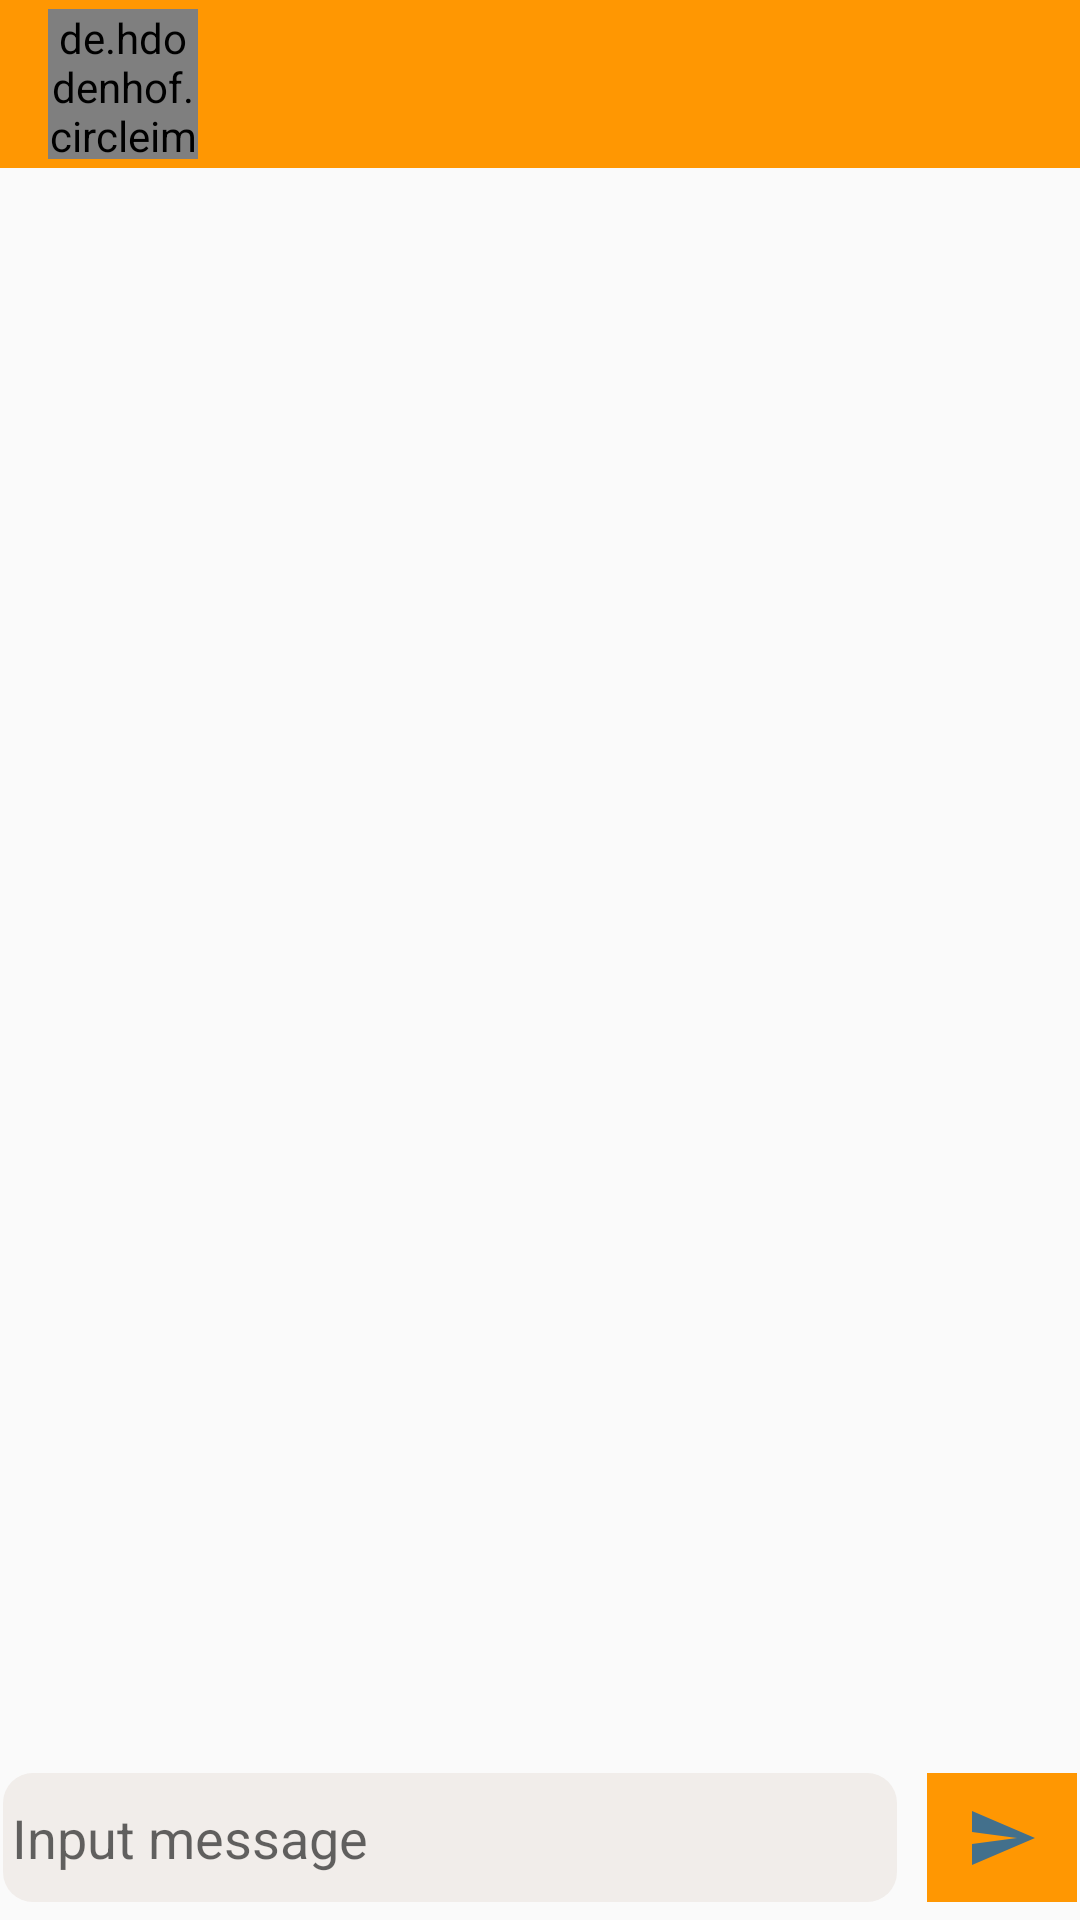

Named icons in this screenshot (1080px×1920px) and their bounding boxes, (x1, y1, x2, y2):
send: (927, 1773, 1077, 1902)
